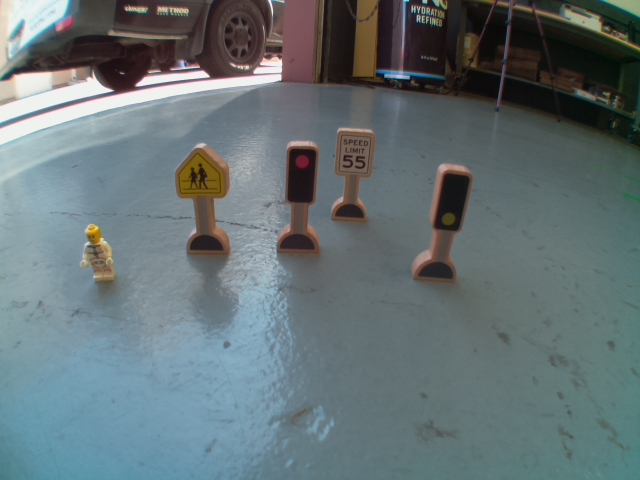Green Traffic Light: (430, 157, 471, 238)
Red Traffic Light: (283, 143, 318, 205)
Speed Limit 55: (333, 129, 377, 178)
YIELD: (175, 138, 232, 203)
person: (71, 216, 124, 288)
